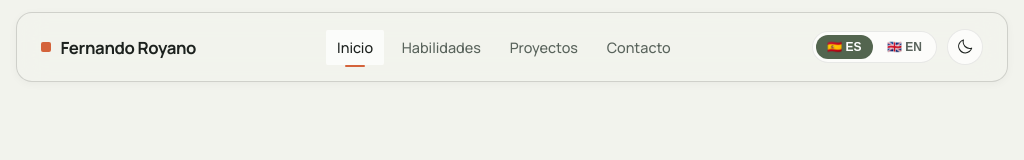
Scenario: Header › traduce la navegación al pulsar EN
Click the button with aria-label "English" at (904, 47), box [876,35,933,59]
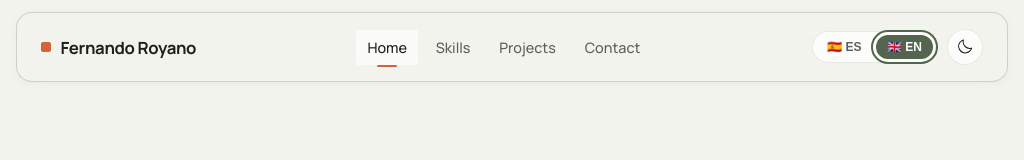
Check: the link "Skills" is shown, box [436,38,470,56]
Check: the link "Home" is shown, box [356,30,418,64]
Check: the link "Inicio" is gone
